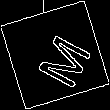M_NW: (22, 23, 88, 87)
